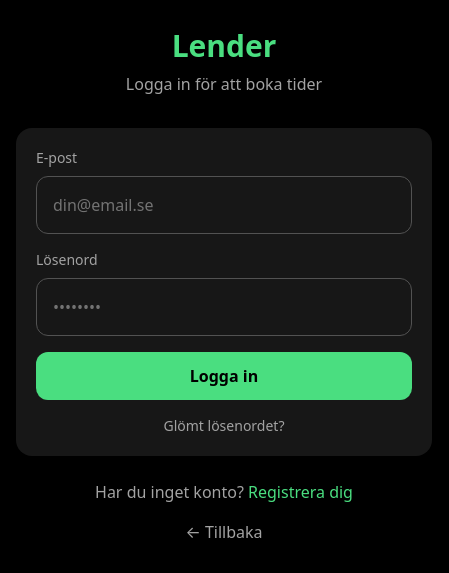
LoginPage › should show error on invalid credentials
Type "test@example.com" into the field labelled "E-post" at [224, 205], box [36,176,412,234]
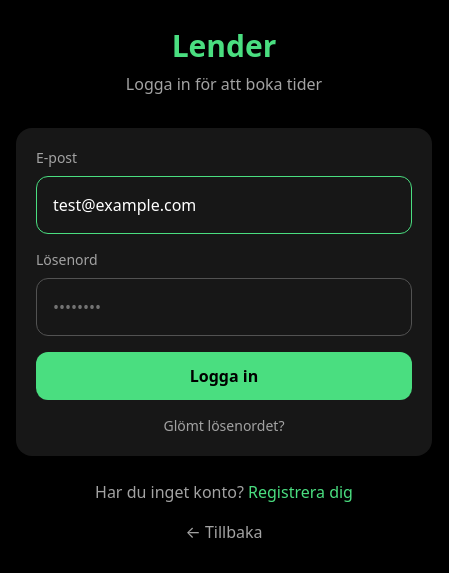
Type "wrong" into the password field labelled "Lösenord" at [224, 307], box [36,278,412,336]
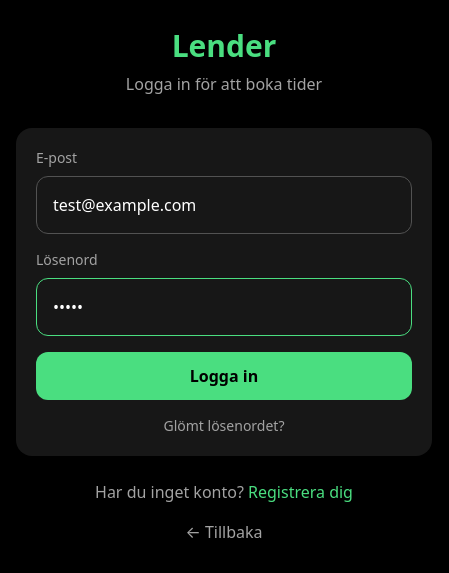
Click the button "Logga in" at [224, 376], box [36,352,412,400]
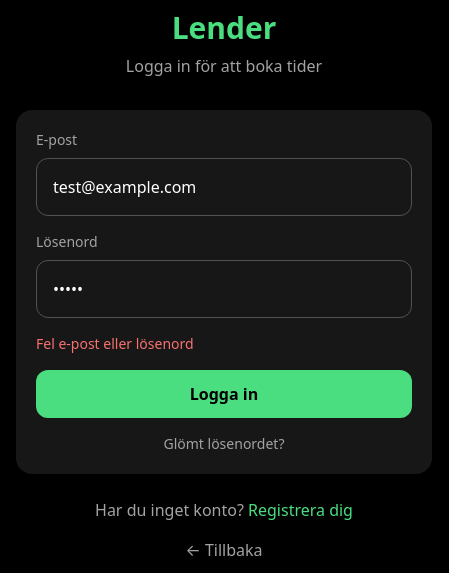
expect the text "Fel e-post eller lösenord" is shown: met, box [36,334,194,353]
